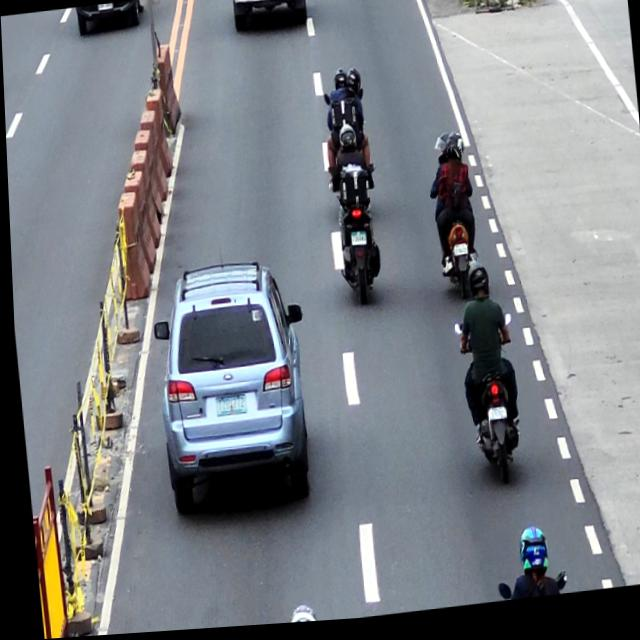Car: (145, 261, 317, 518), (231, 0, 309, 35), (75, 1, 146, 38)
License-Plate: (211, 398, 243, 419), (483, 412, 503, 427), (348, 236, 364, 250), (450, 250, 465, 262), (97, 5, 113, 13)
Motorcycle: (450, 312, 524, 495), (327, 165, 385, 312), (435, 193, 476, 308), (320, 92, 370, 173)
